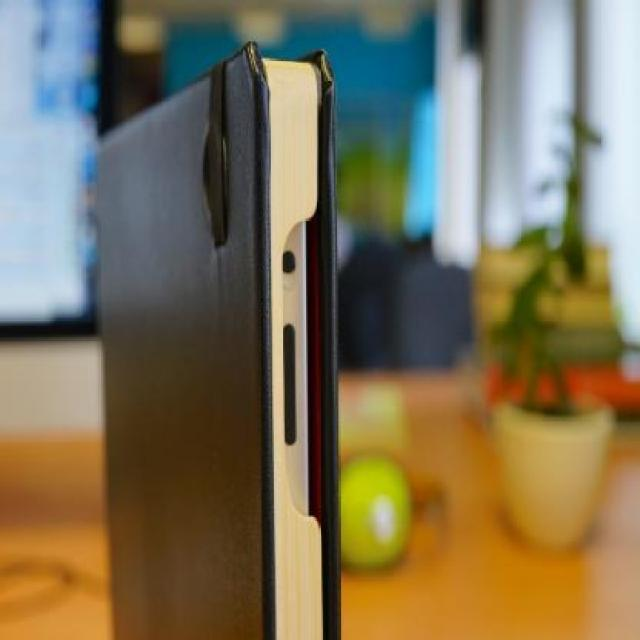phone: (96, 41, 342, 639)
